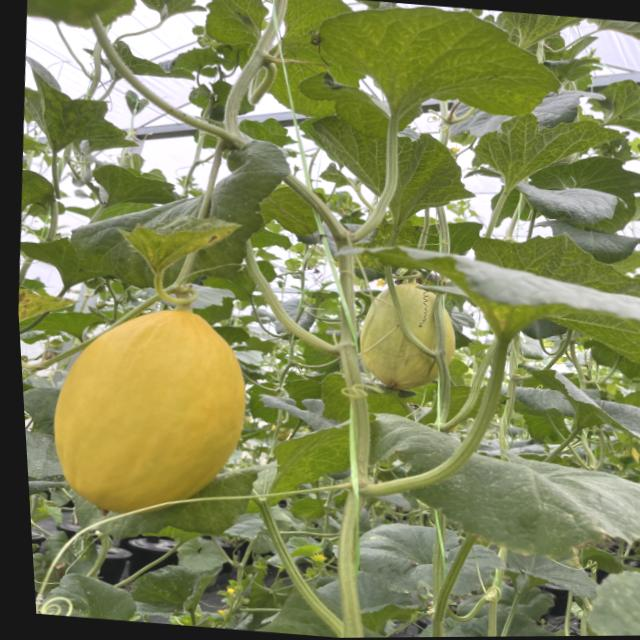CMV: (306, 0, 573, 125), (460, 105, 625, 200), (17, 55, 149, 158), (196, 0, 272, 48)
alternaria leaf blight: (111, 210, 238, 284)
downy mildew: (38, 569, 142, 622), (125, 563, 222, 619)
healthy: (522, 364, 640, 458)
